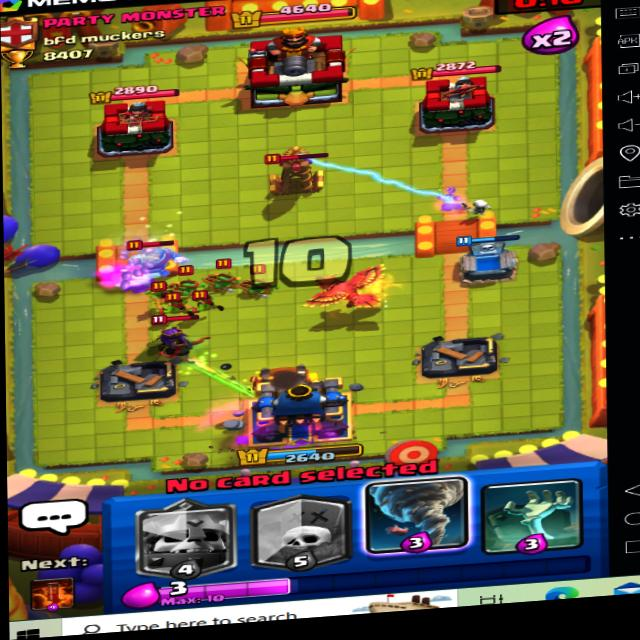archer-queen: (150, 315, 211, 366)
goblin: (187, 290, 222, 317), (140, 277, 176, 303), (159, 293, 197, 316)
knight: (122, 231, 184, 282)
spear-goblin: (236, 262, 285, 307), (203, 247, 235, 296), (173, 264, 205, 301)
tesla: (264, 143, 349, 208)
